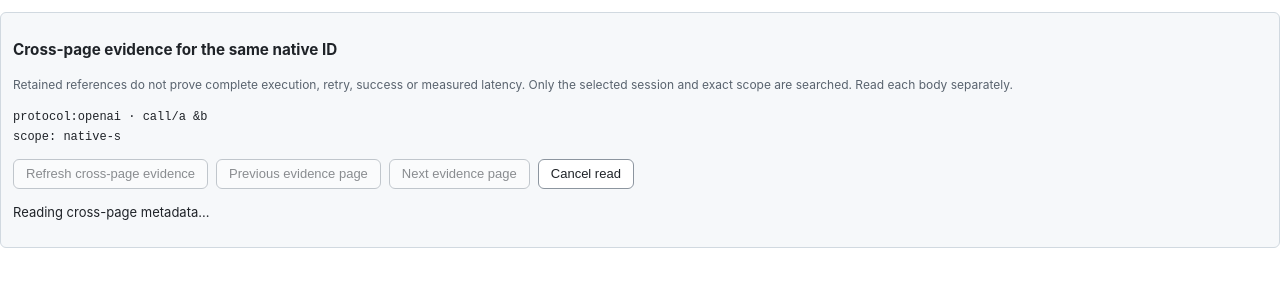
Scenario: cross-page native tool evidence › releases cancel waits and suppresses ignored-abort results
The image size is (1280, 295).
Step 1. Click the button "Cancel read" → point(586, 174), box [538, 159, 634, 189]
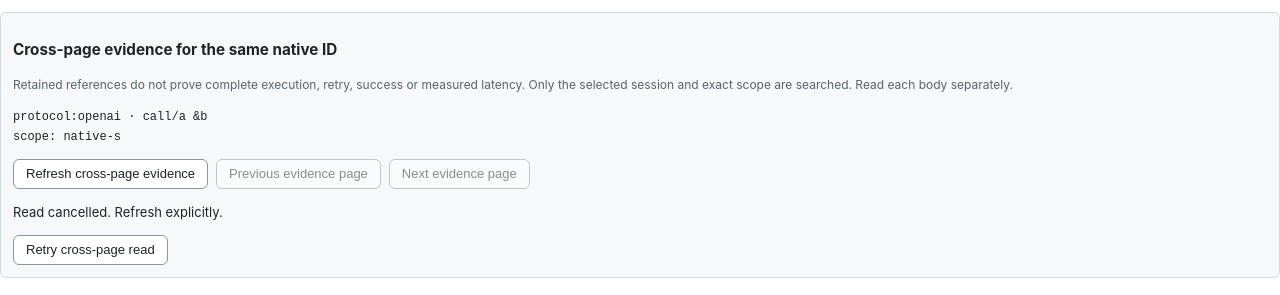
Expected: the message "Read cancelled. Refresh explicitly. Retry cross-page read" is shown, [13, 204, 223, 265]
